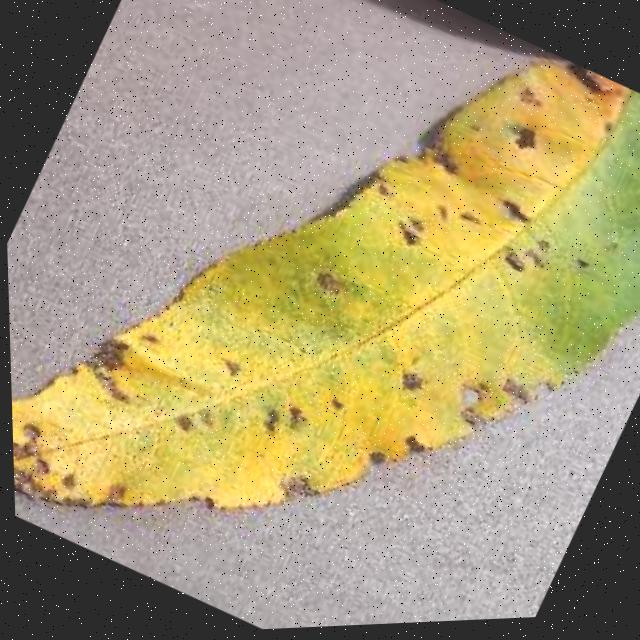Bacterial_spot: (456, 166, 602, 309), (490, 94, 567, 175), (154, 378, 229, 461), (244, 379, 322, 457), (383, 194, 449, 267), (256, 455, 325, 519), (292, 249, 362, 312), (374, 348, 436, 417), (199, 330, 262, 393), (383, 416, 437, 468), (350, 433, 401, 483), (311, 376, 353, 431)
